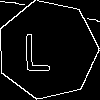L: (22, 25, 52, 71)
